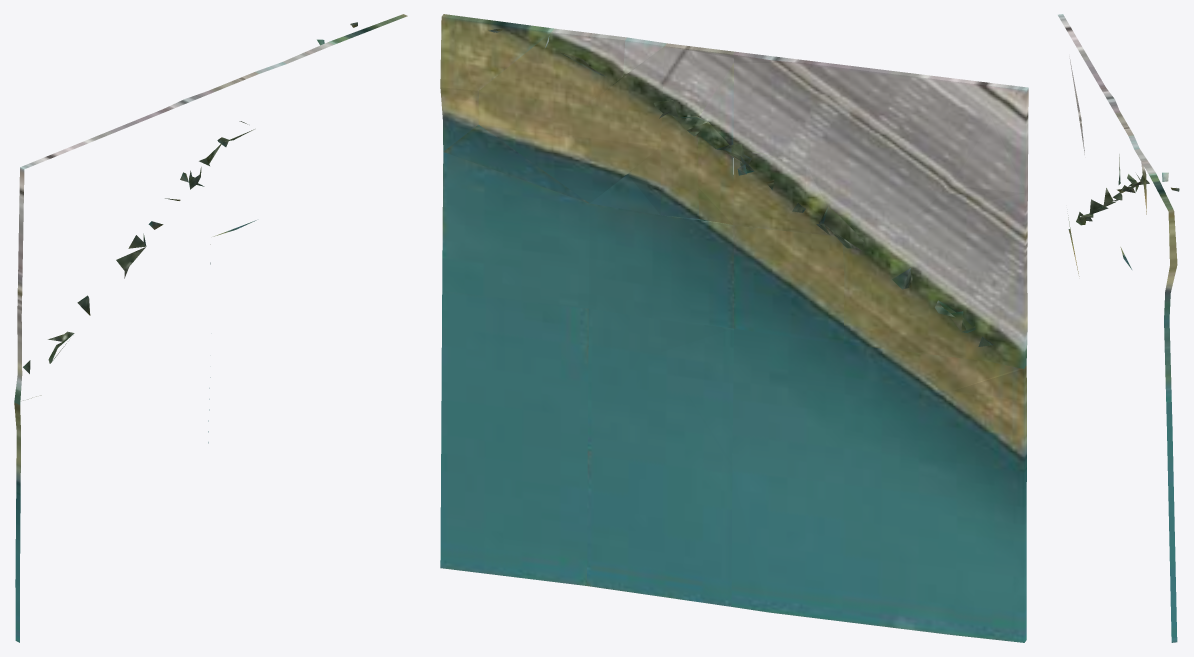
The model's file is tile_198.glb.
3 views of the same model, side by side, from view 1: azimuth 30°, elevation 25°; view 2: azimuth 150°, elevation 25°; view 3: azimuth 270°, elevation 25° (orthographic). The views are drawn at different scales.
Bounding box in the file's own units: 150 × 152 × 38.96.
1 material, 1 textured.
